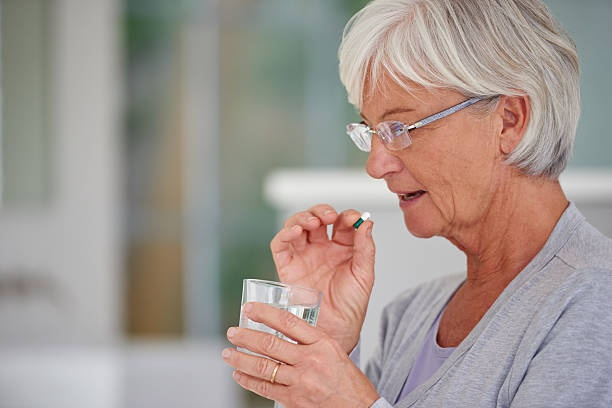pills: (353, 211, 371, 230)
